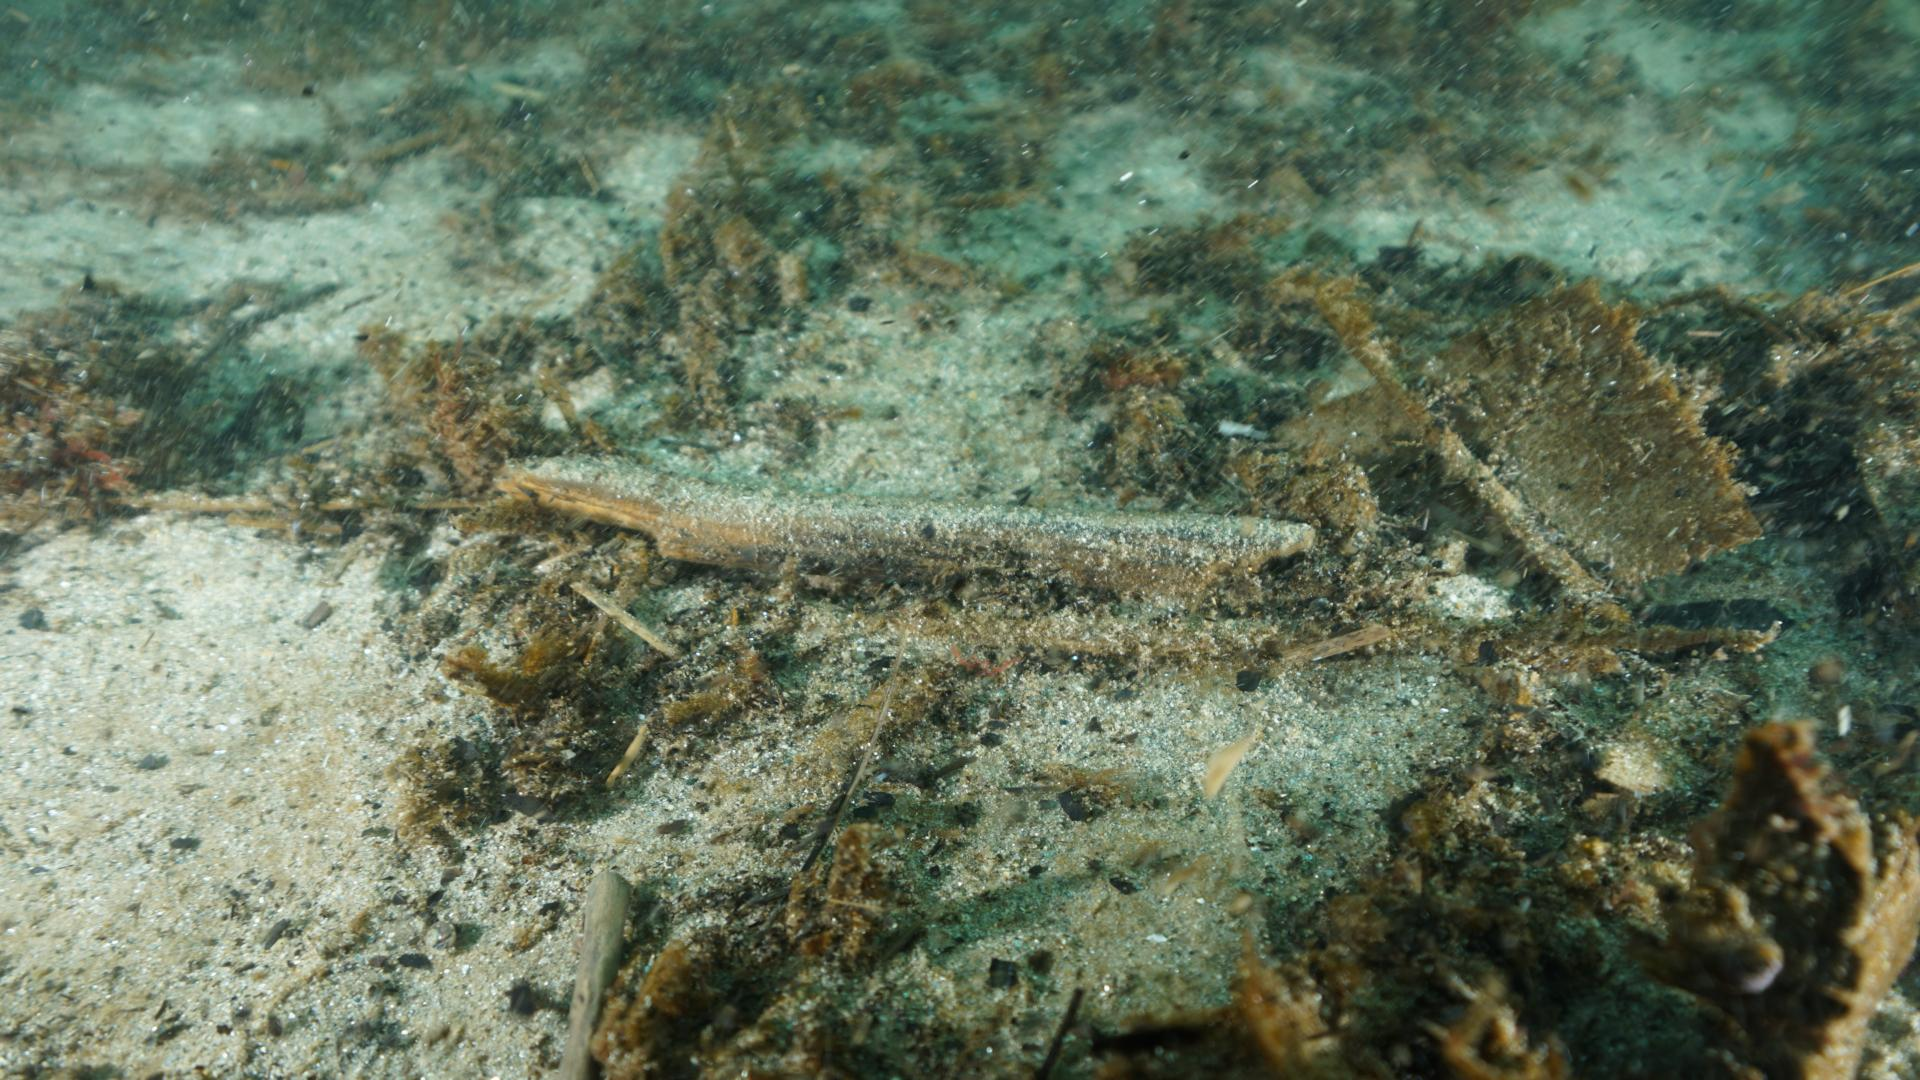wood: (488, 450, 1317, 597)
